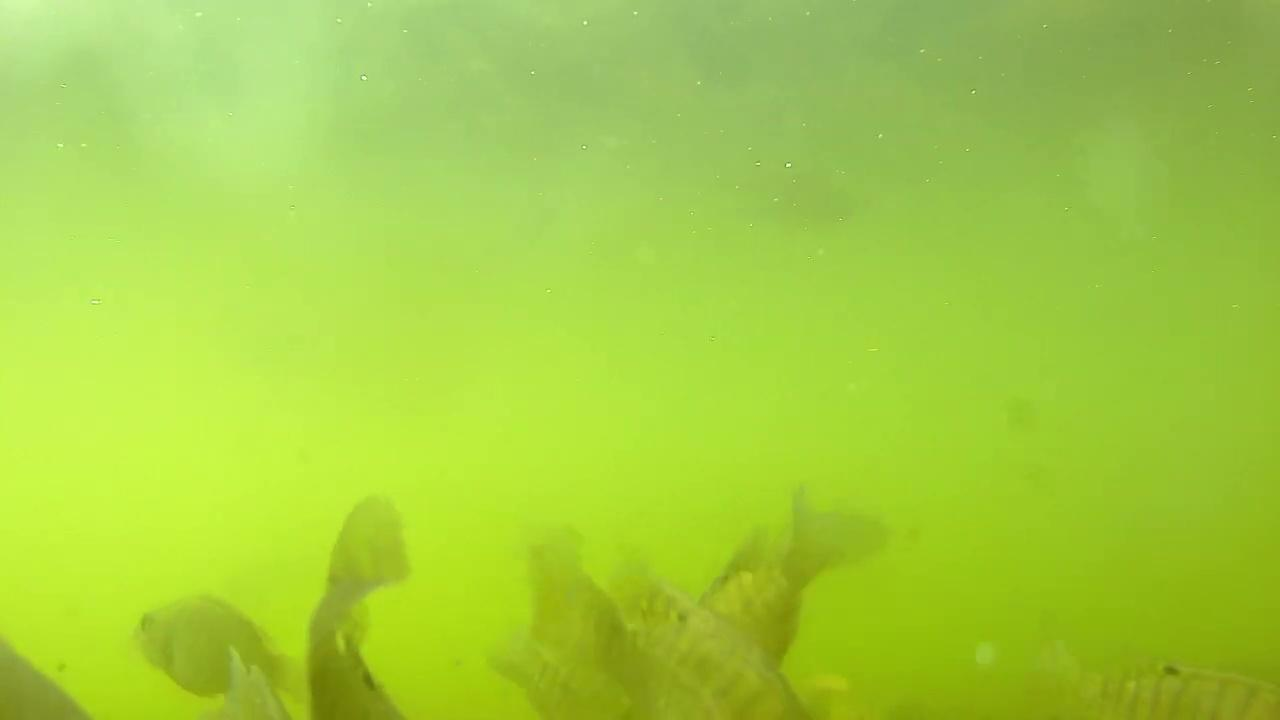Tilapia: (121, 590, 288, 692)
